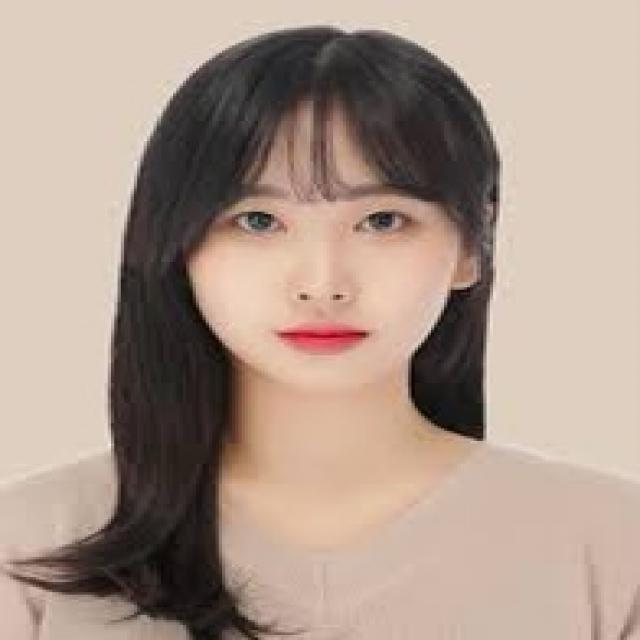Nonhelmet: (122, 16, 502, 408)
